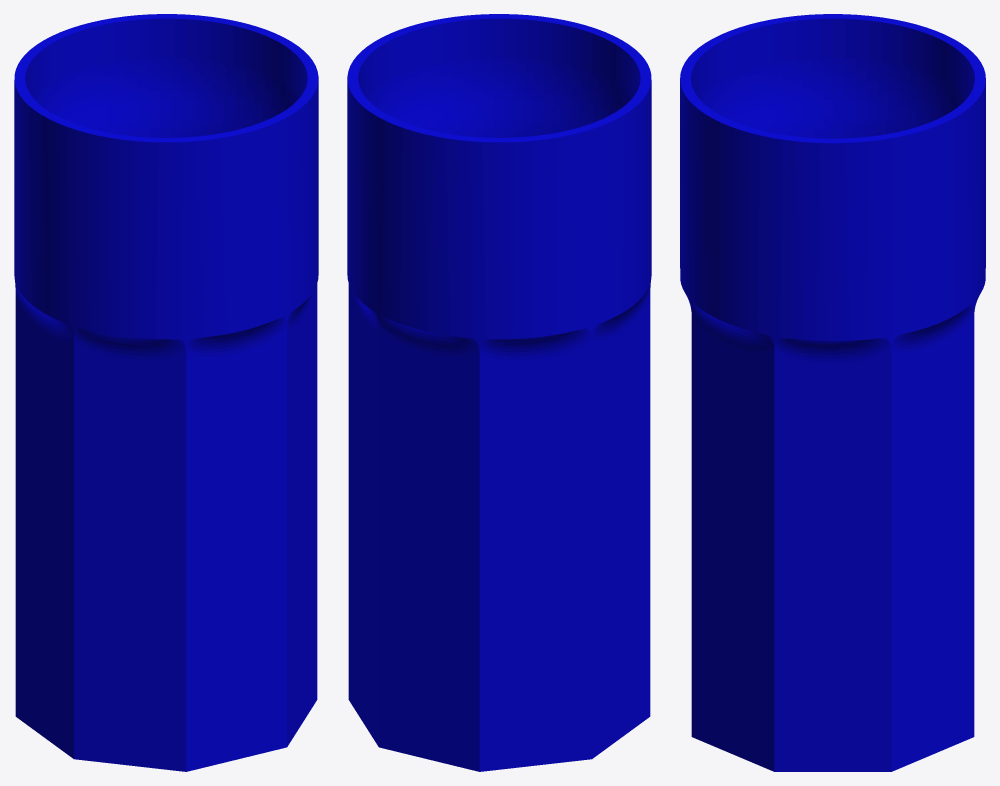
File: jeroen_cup.dae
3 renders of one model, left to right at view 1: azimuth 30°, elevation 25°; view 2: azimuth 150°, elevation 25°; view 3: azimuth 270°, elevation 25°, orthographic.
Parts seen in each view (by area): view 1: jeroen_cup; view 2: jeroen_cup; view 3: jeroen_cup.
Part boxes in pixels (bbox=[...]): jeroen_cup: bbox=[14, 14, 318, 771]; jeroen_cup: bbox=[347, 14, 651, 771]; jeroen_cup: bbox=[680, 14, 985, 771].
Bounding box in the file's own units: 0.07 × 0.07 × 0.16.
